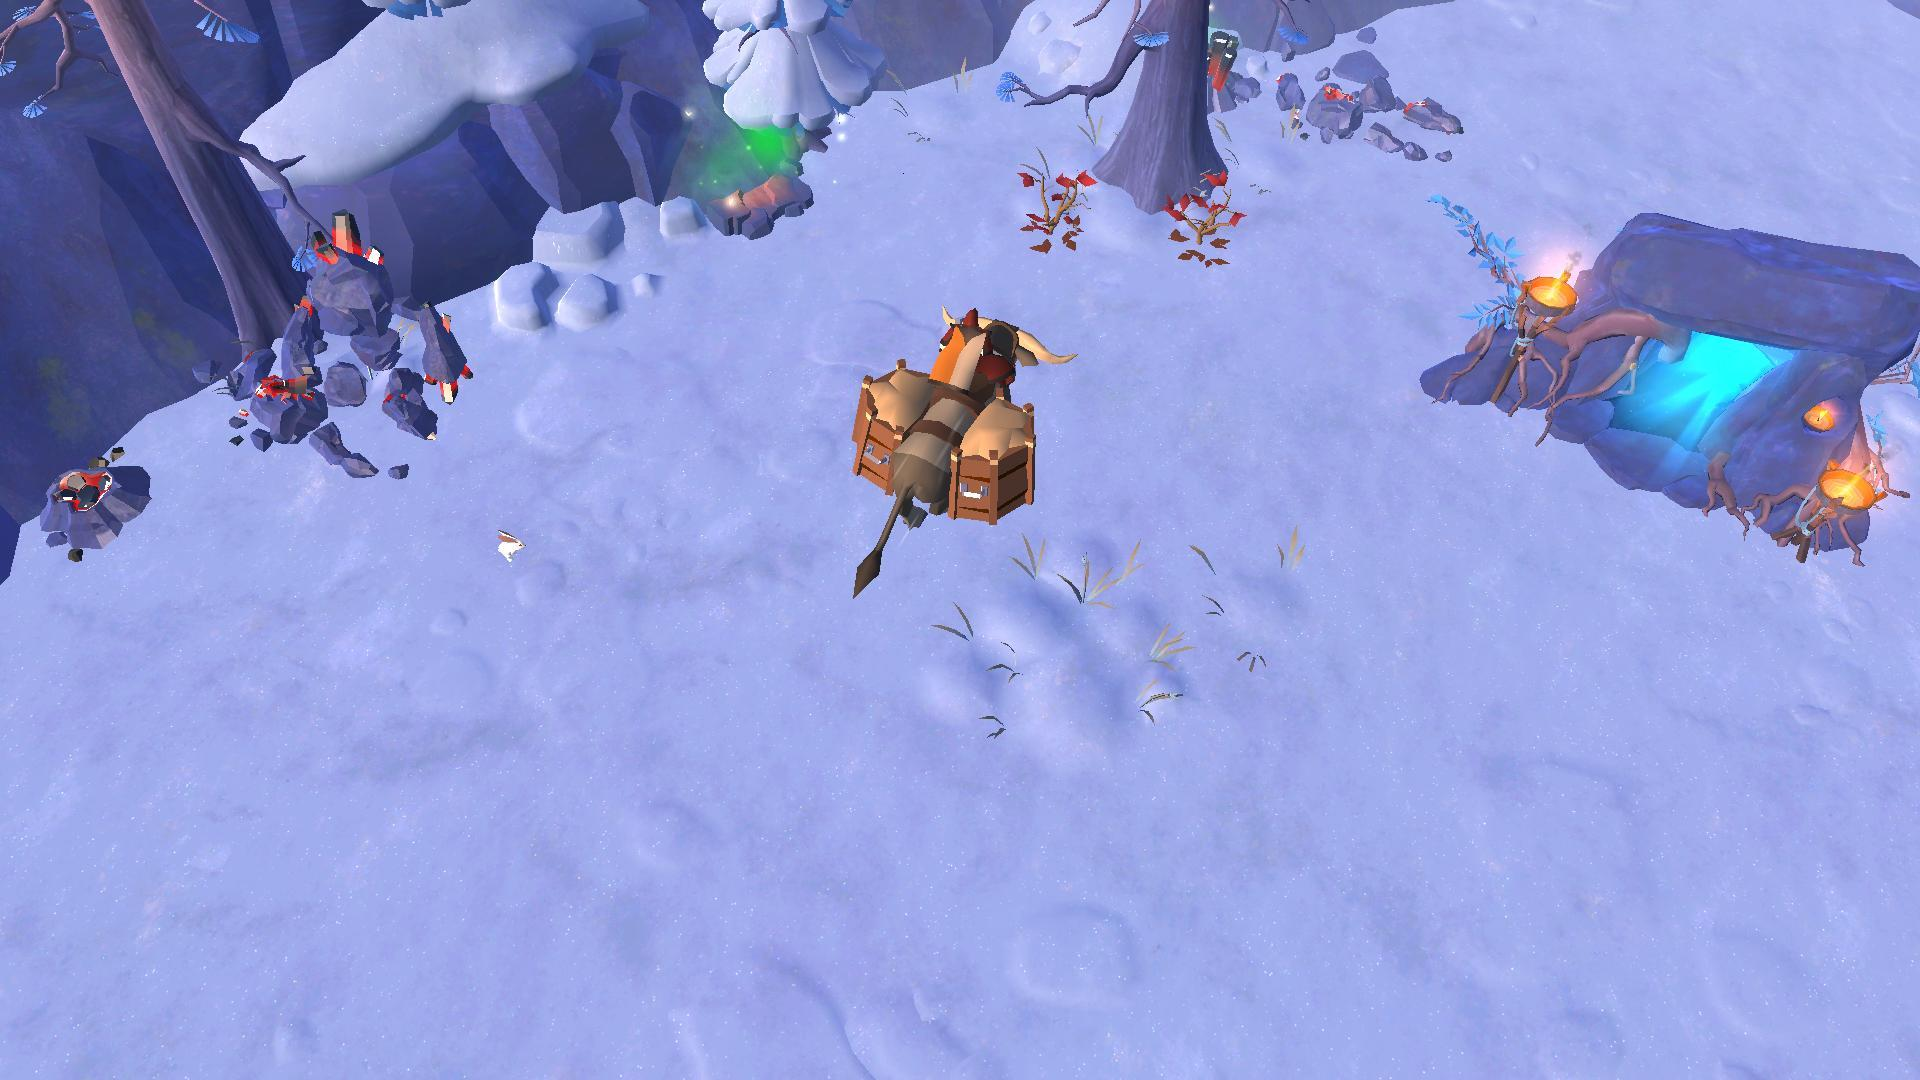ore_t5: (1200, 30, 1246, 103)
